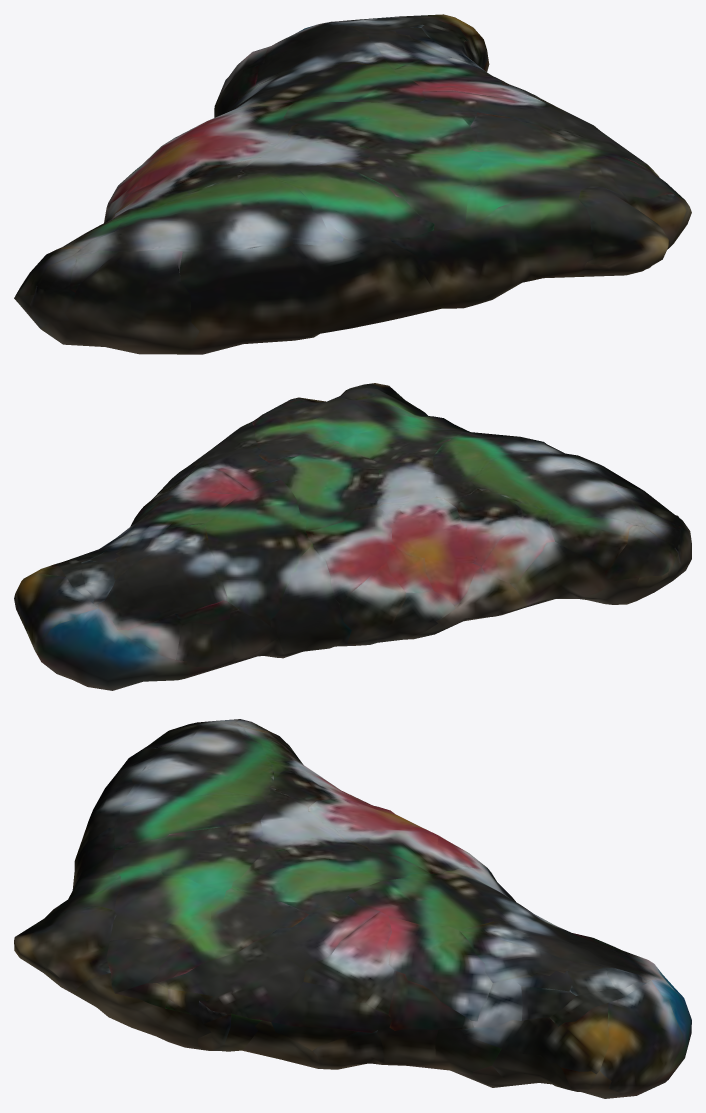
File: hall.glb
3 renders of one model, top to bottom at view 1: azimuth 30°, elevation 25°; view 2: azimuth 150°, elevation 25°; view 3: azimuth 270°, elevation 25°, orthographic. The views are drawn at different scales.
Bounding box in the file's own units: 0.5355 × 0.1357 × 0.5283.
Materials: 1 (1 with a texture image).
